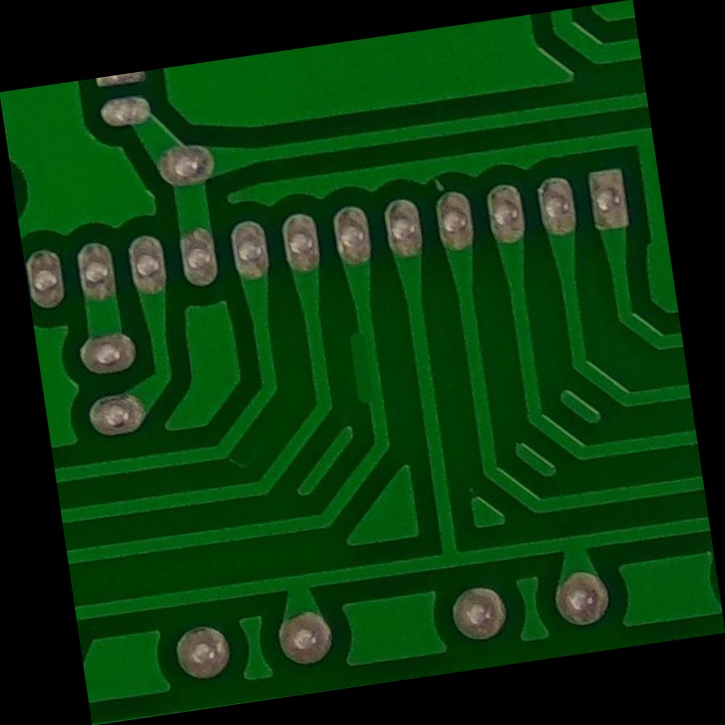spur: (333, 312, 393, 413)
